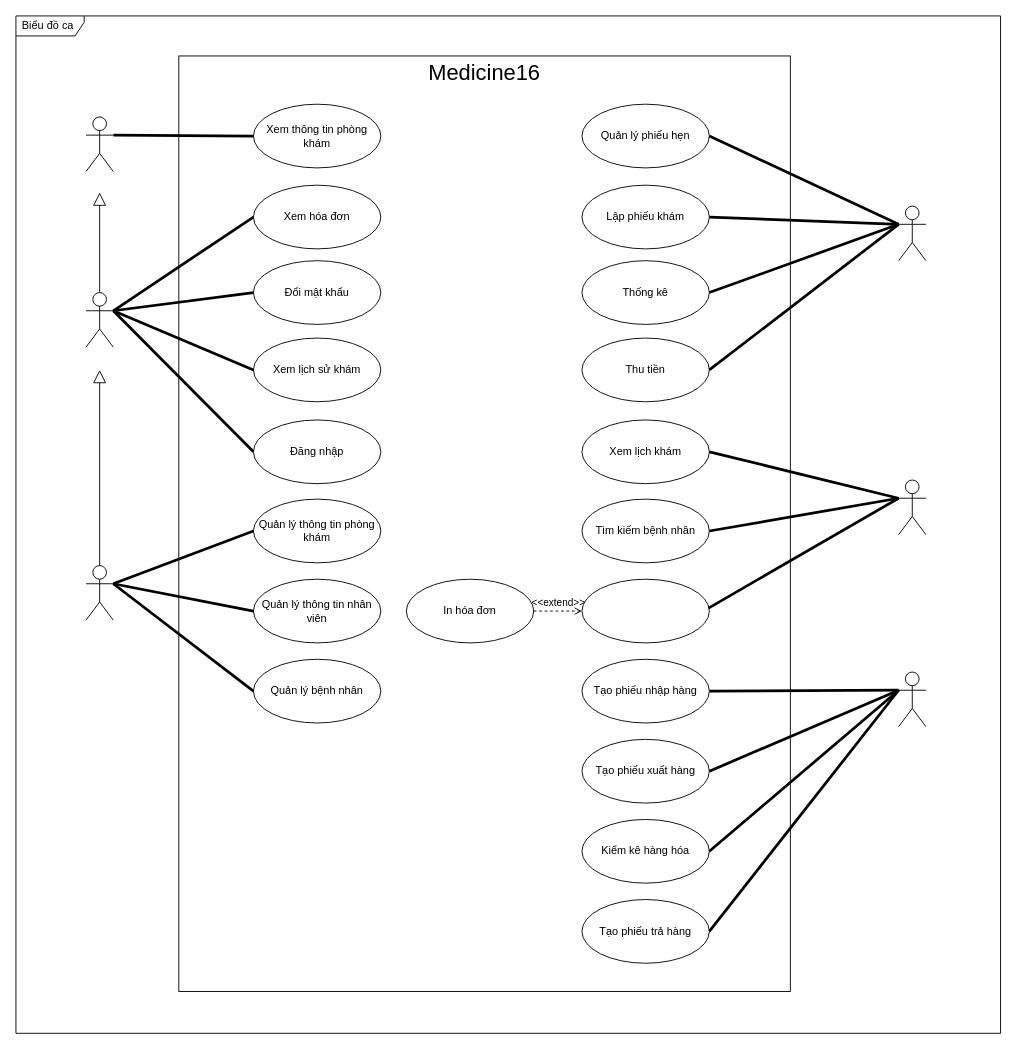
This 1016x1049 diagram has some shape labels left out. The centre of each missing label's shape, as x and y in pixels:
"Bác sĩ" belongs at point 912,507.
"Bệnh nhân" belongs at point 99,319.
"Khách" belongs at point 99,144.
"Kê toa, lập hóa đơn" belongs at point 645,610.
"Quản lý" belongs at point 912,233.
"Quản trị viên" belongs at point 99,592.
"Thủ kho" belongs at point 912,699.
